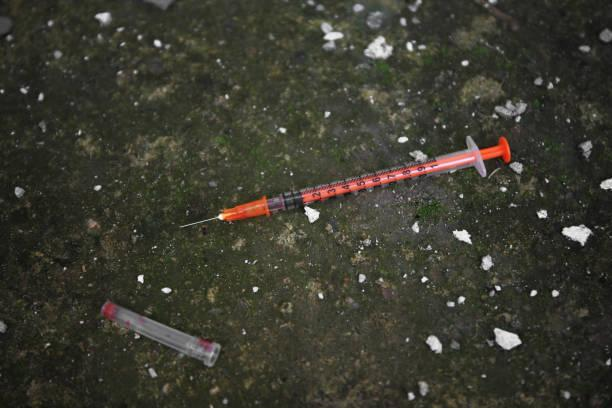Syringe: (181, 136, 510, 227), (101, 301, 220, 366)
